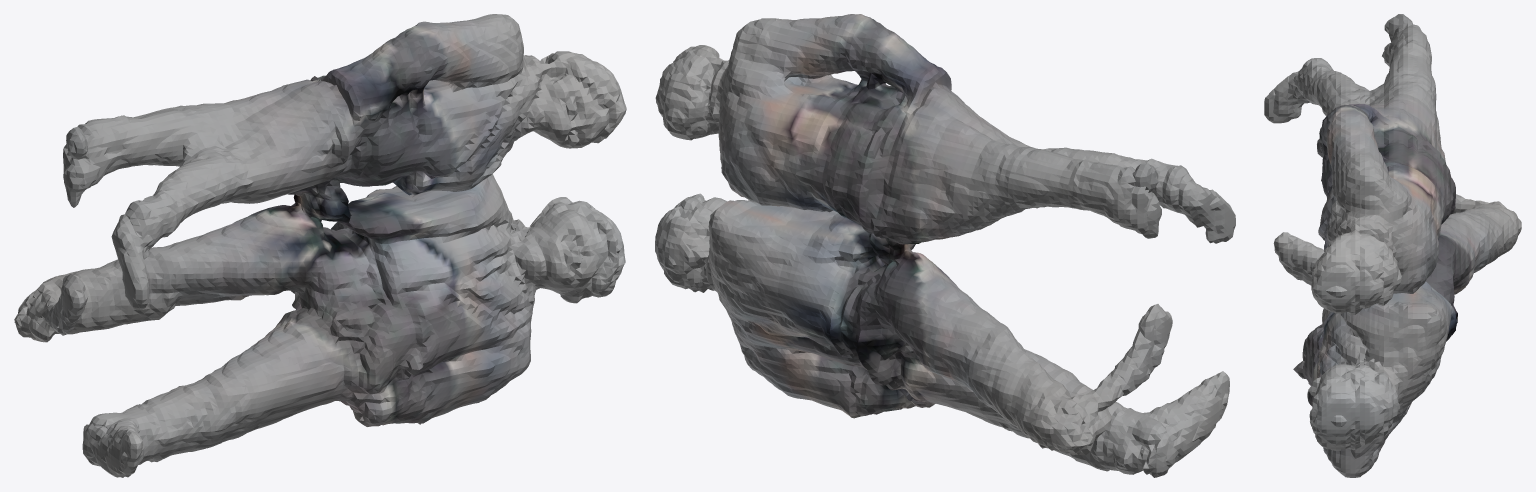
Rendered from staff-duo-triposr.glb.
3 renders of one model, left to right at view 1: azimuth 30°, elevation 25°; view 2: azimuth 150°, elevation 25°; view 3: azimuth 270°, elevation 25°, orthographic. The views are drawn at different scales.
Visible parts, largest first — view 1: mesh.obj; view 2: mesh.obj; view 3: mesh.obj.
Part boxes in pixels (left/top/right/bottom): mesh.obj: left=14, top=14, right=626, bottom=477; mesh.obj: left=655, top=14, right=1235, bottom=477; mesh.obj: left=1264, top=14, right=1521, bottom=477.
Bounding box in the file's own units: 120 × 85.76 × 57.9.
